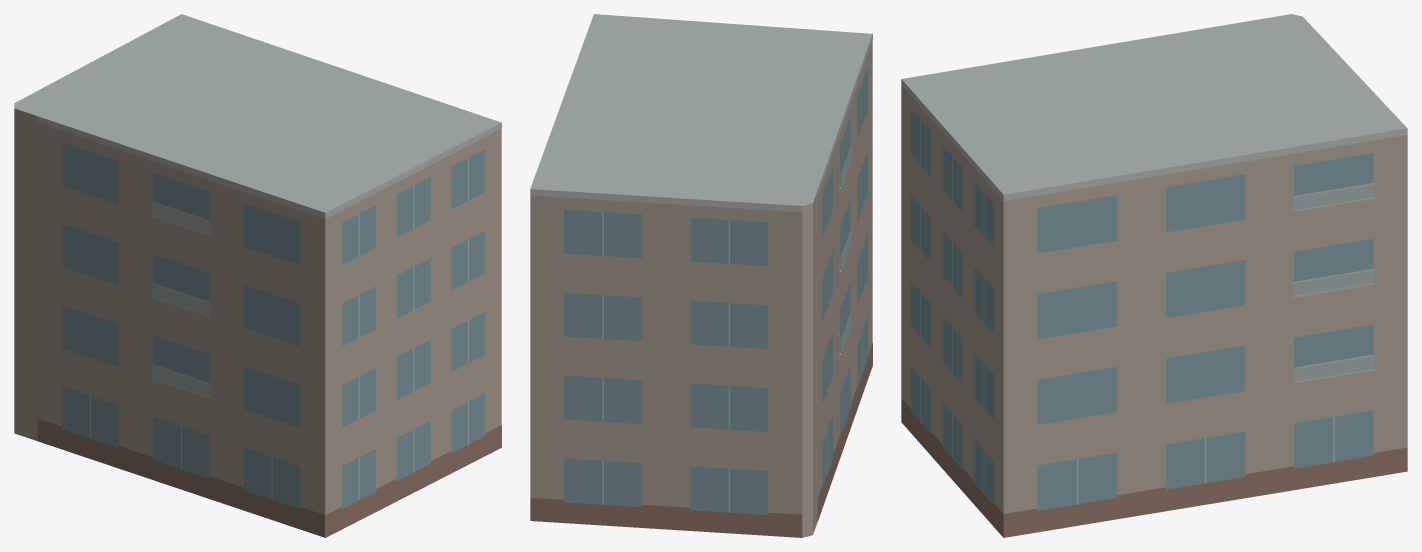
The model's file is survey-upis-33025680.glb.
3 views of the same model, side by side, from view 1: azimuth 30°, elevation 25°; view 2: azimuth 150°, elevation 25°; view 3: azimuth 270°, elevation 25° (orthographic). The views are drawn at different scales.
Visible parts, largest first — view 1: survey-upis-33025680.tmp; view 2: survey-upis-33025680.tmp; view 3: survey-upis-33025680.tmp.
Part boxes in pixels (x1,y1,x2,y2): survey-upis-33025680.tmp: (14, 14, 501, 537); survey-upis-33025680.tmp: (530, 14, 872, 537); survey-upis-33025680.tmp: (901, 14, 1407, 537).
Size of the model in its own units: 14.47 by 12.8 by 17.12.
